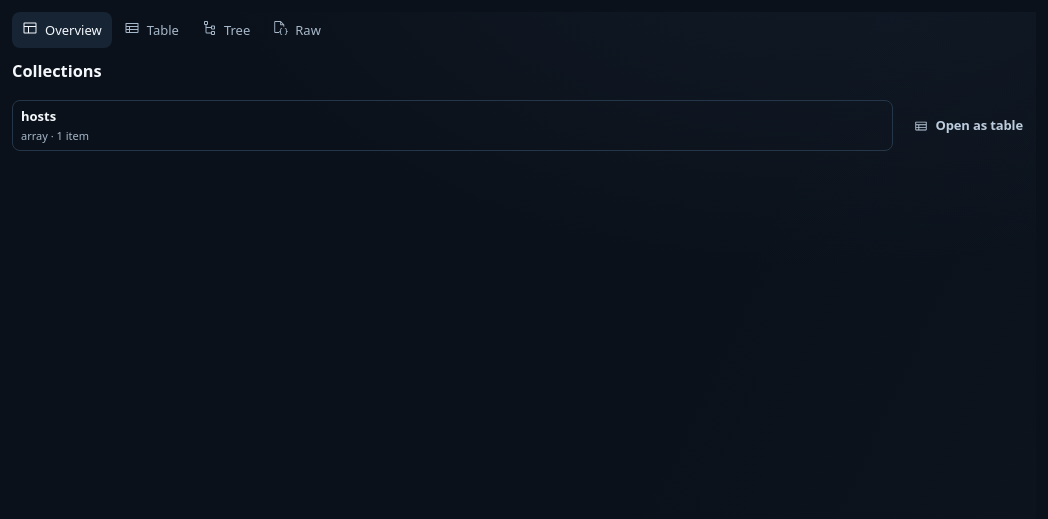
exploring a previously unseen result › opens one inspector from any view and returns focus when it closes
Click the button "hosts array · 1 item".
click(39, 116)  # box [12, 100, 893, 151]
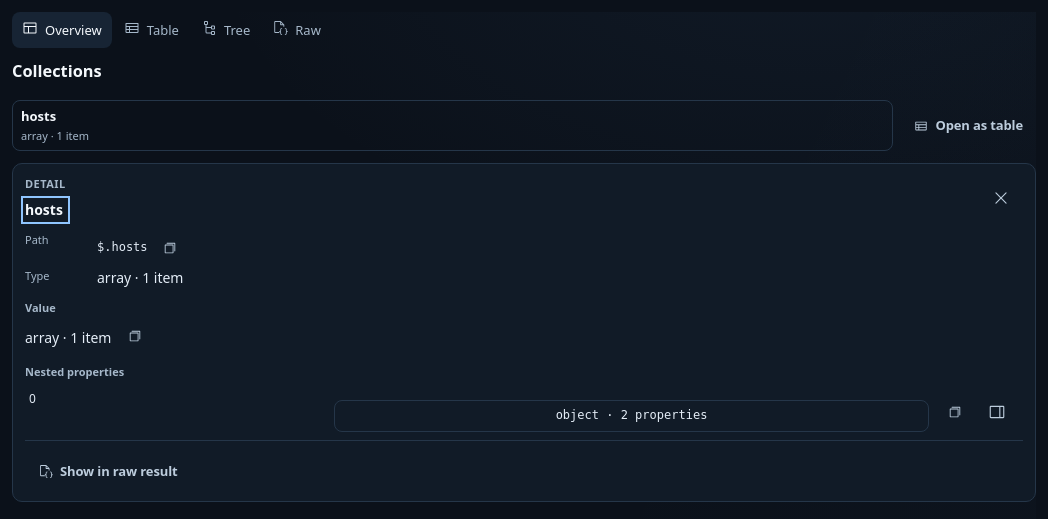
Now the text "$.hosts" is shown, box [97, 239, 148, 257]
Now the text "array · 1 item" next to "Type" is shown, box [97, 268, 184, 287]
Now the heading "hosts" is shown, box [25, 200, 66, 220]
Click the button named "Close detail".
click(1001, 198)  # box [979, 176, 1023, 220]
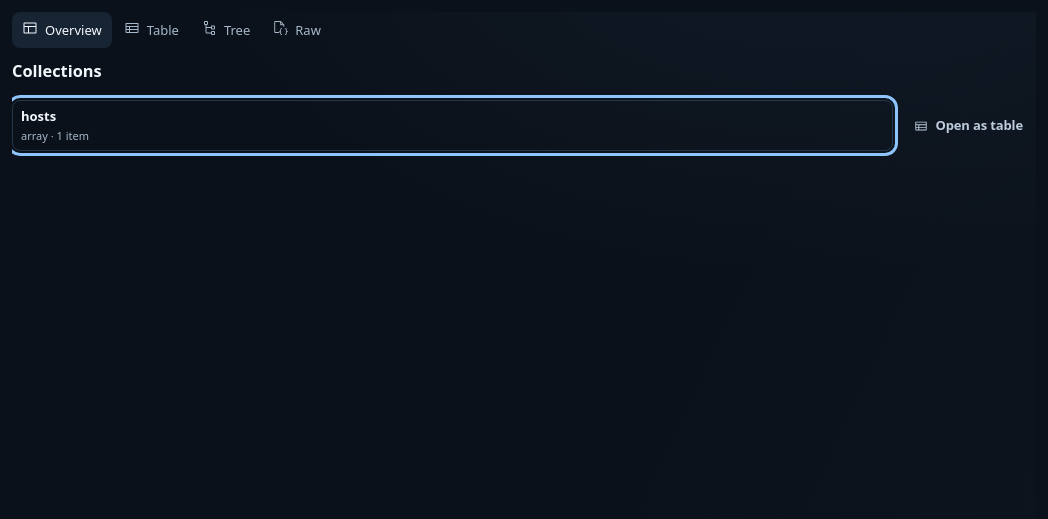
Now the text "$.hosts" is gone
